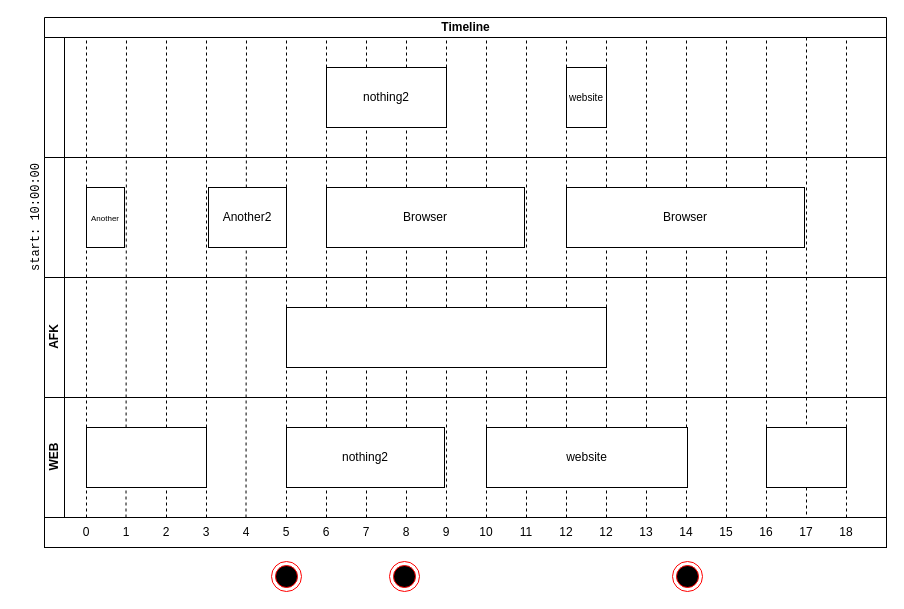
The diagram is 904 pixels wide and 609 high, and some of its shapes have lost their labels. The box of each missing label's shape, as (x1, y1, x2, y2) in pixels:
APP: (44, 156, 886, 278)
not AFK: (286, 306, 606, 368)
nothing1: (86, 426, 206, 488)
nothing3: (766, 426, 846, 488)
Overall: (44, 36, 886, 158)
